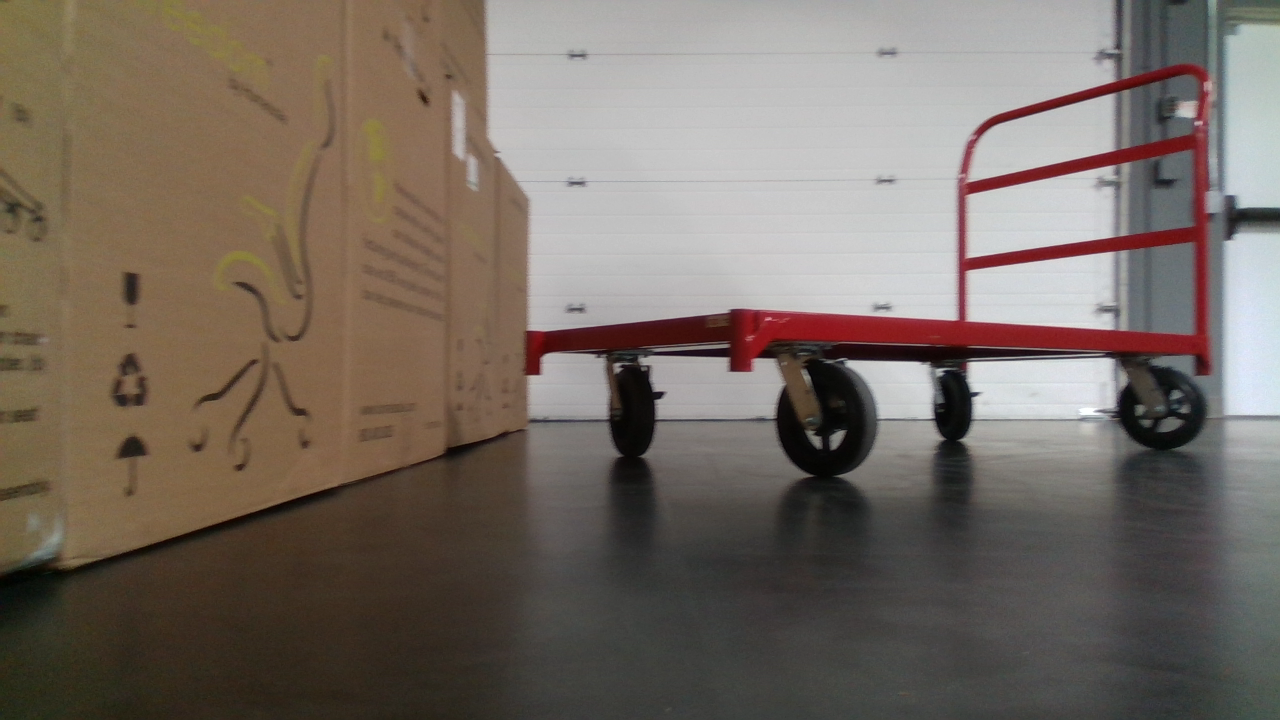Dolly: (521, 62, 1213, 480)
Wheel: (774, 360, 879, 477), (1116, 367, 1208, 451), (606, 364, 656, 457), (931, 370, 974, 444)
